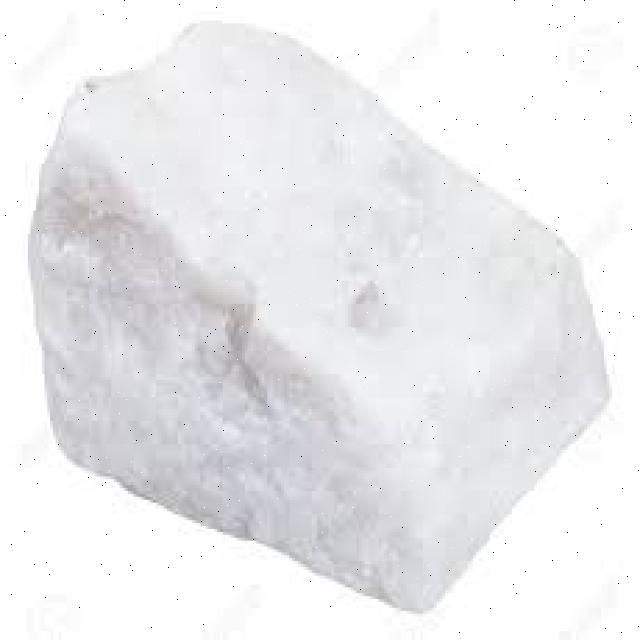Metamorphic: (8, 12, 615, 608)
